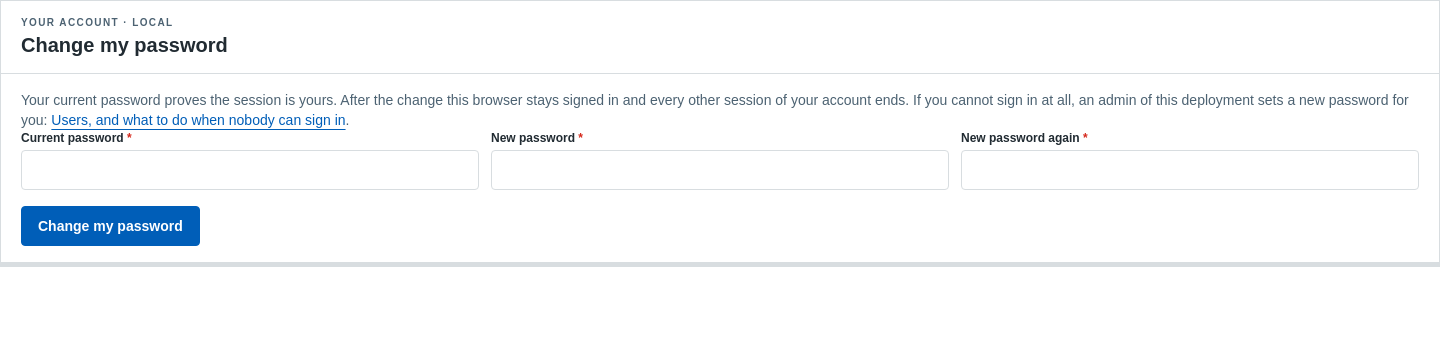
Test: ChangeMyPasswordCard › changes the password, echoes neither value, and says this browser stays signed in while every other session ends
Type "the-current-password" into the password field with test id "my-password-current" at (250, 170), box left=21, top=150, right=479, bottom=190
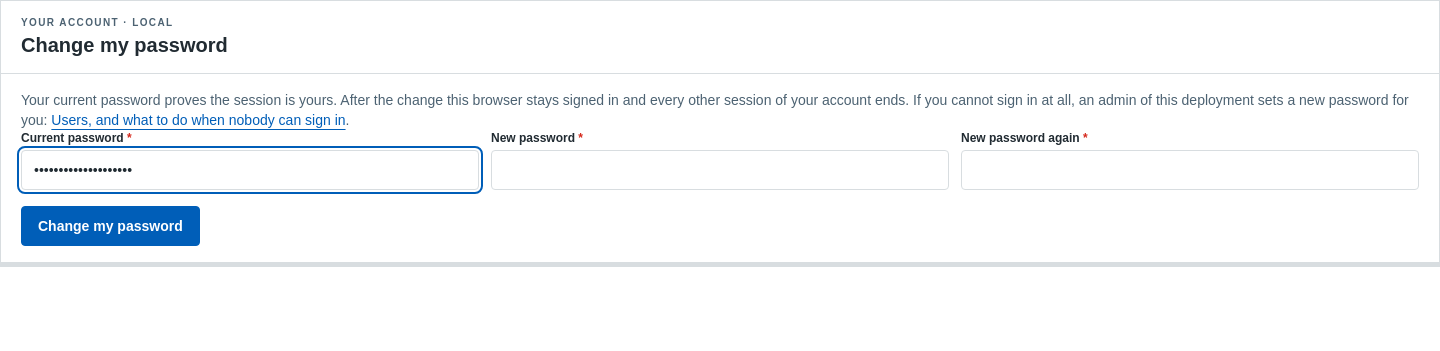
Type "a-brand-new-password" into the password field with test id "my-password-new" at (720, 170), box left=491, top=150, right=949, bottom=190
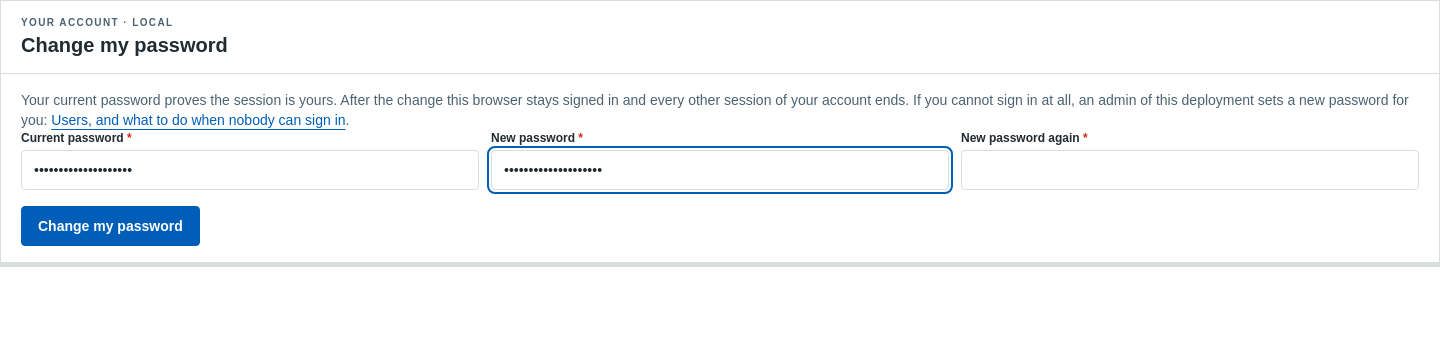
Type "a-brand-new-password" into the password field with test id "my-password-again" at (1190, 170), box left=961, top=150, right=1419, bottom=190
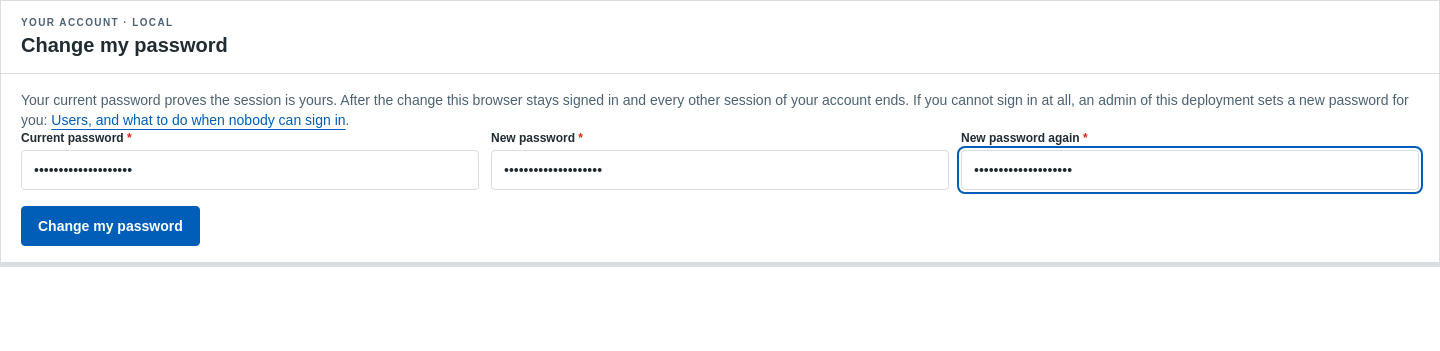
Click the button with test id "my-password-submit" at (110, 226), box left=21, top=206, right=200, bottom=246
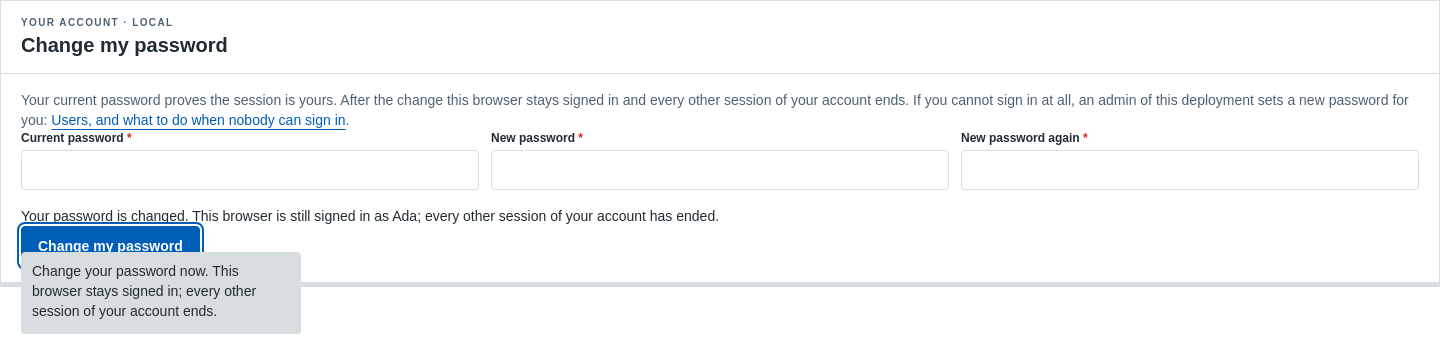
Expected: the message with test id "my-password-done" shows "Your password is changed. This browser is still signed in as Ada; every other session of your account has ended.", left=21, top=208, right=719, bottom=224
Expected: the password field with test id "my-password-current" is empty, left=21, top=150, right=479, bottom=190
